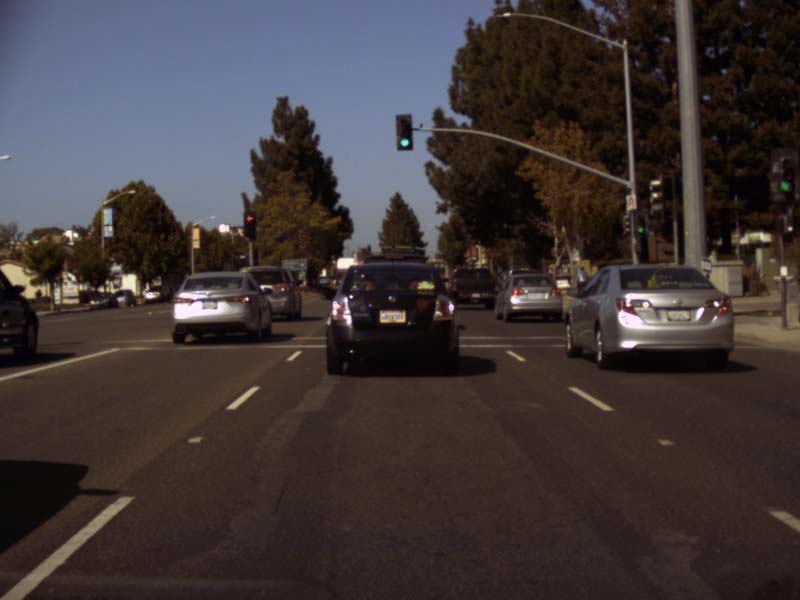Green: (778, 156, 792, 201), (396, 114, 413, 150), (636, 213, 644, 234), (409, 243, 414, 253), (390, 244, 394, 252)
Red: (244, 210, 254, 238), (367, 243, 370, 251)
